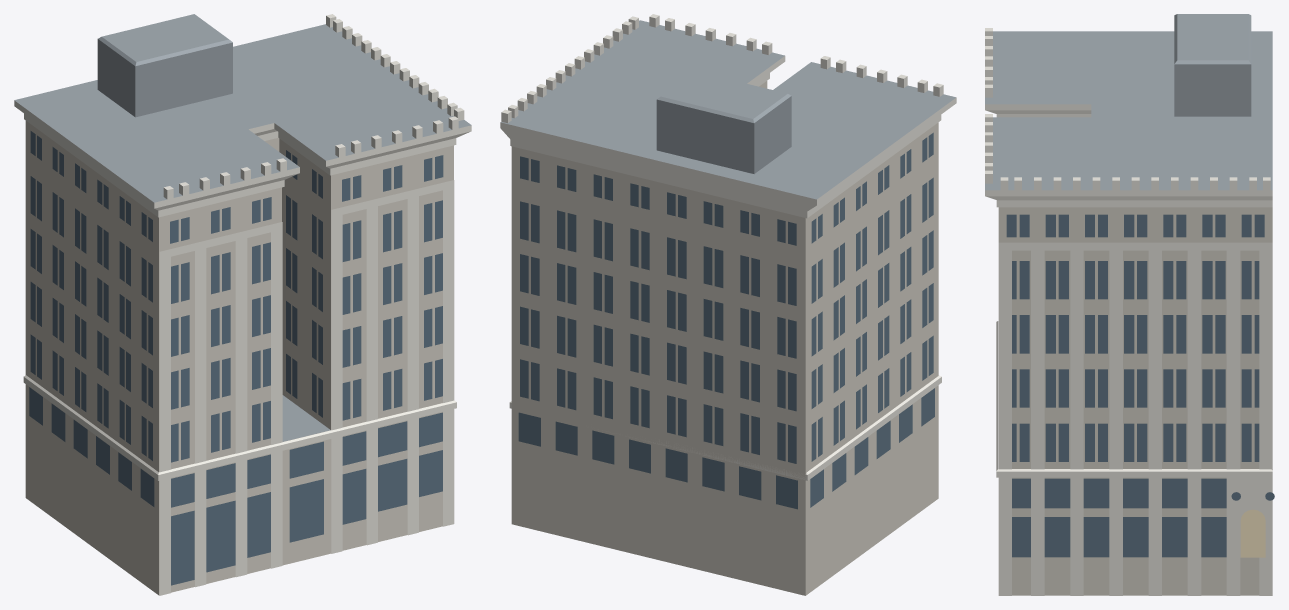
The model's file is kc-scarritt-building.glb.
The picture shows the model from 3 angles, left to right: view 1: azimuth 30°, elevation 25°; view 2: azimuth 150°, elevation 25°; view 3: azimuth 270°, elevation 25°; orthographic projection. The views are drawn at different scales.
Parts seen in each view (by area): view 1: Scarritt Building; view 2: Scarritt Building; view 3: Scarritt Building.
Boxes of the visible parts, x1=… form: Scarritt Building: x1=14, y1=14, x2=471, y2=595; Scarritt Building: x1=500, y1=14, x2=956, y2=595; Scarritt Building: x1=985, y1=14, x2=1274, y2=595.
Bounding box in the file's own units: 39 × 53.3 × 30.02.
